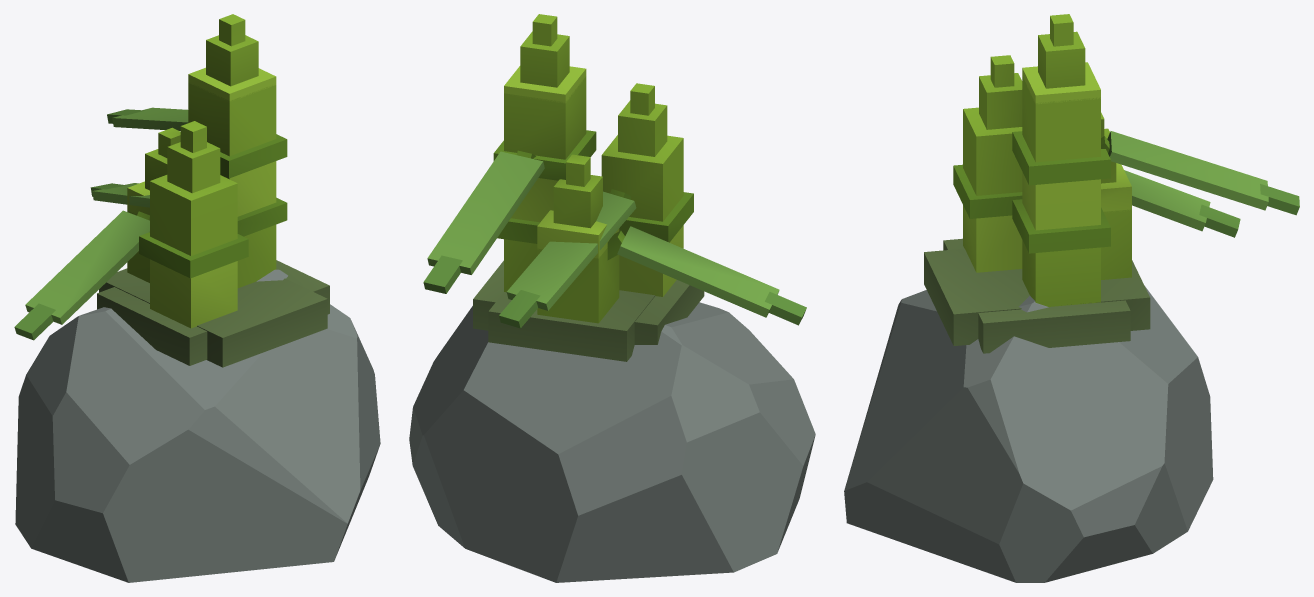
Rendered from ShootyRock.fbx.
3 renders of one model, left to right at view 1: azimuth 30°, elevation 25°; view 2: azimuth 150°, elevation 25°; view 3: azimuth 270°, elevation 25°, orthographic. The views are drawn at different scales.
Parts seen in each view (by area): view 1: ShootyRock, ShootyRock_Shoots; view 2: ShootyRock, ShootyRock_Shoots; view 3: ShootyRock, ShootyRock_Shoots.
Part boxes in pixels (box(x1,y1,x2,y2)): ShootyRock: box(15, 269, 380, 582); ShootyRock_Shoots: box(14, 14, 329, 367); ShootyRock: box(409, 302, 815, 582); ShootyRock_Shoots: box(423, 14, 806, 361); ShootyRock: box(844, 286, 1213, 582); ShootyRock_Shoots: box(924, 14, 1299, 353).
Size of the model in its own units: 10.59 by 13.3 by 10.91.
